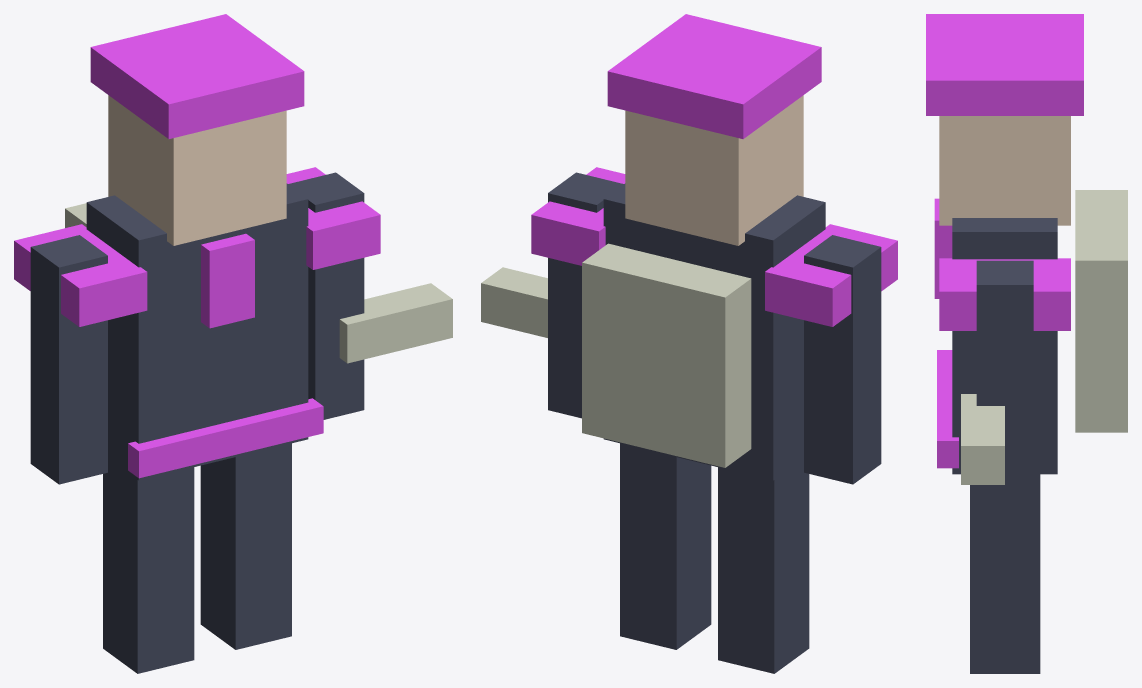
File: 13_tamsin_rootborne_tamer_of_transit.glb
The picture shows the model from 3 angles, left to right: view 1: azimuth 30°, elevation 25°; view 2: azimuth 150°, elevation 25°; view 3: azimuth 270°, elevation 25°; orthographic projection.
Parts seen in each view (by area): view 1: Tamsin Rootborne, Tamer of Transit; view 2: Tamsin Rootborne, Tamer of Transit; view 3: Tamsin Rootborne, Tamer of Transit.
Boxes of the visible parts, x1=… form: Tamsin Rootborne, Tamer of Transit: x1=14, y1=14, x2=452, y2=673; Tamsin Rootborne, Tamer of Transit: x1=481, y1=14, x2=897, y2=673; Tamsin Rootborne, Tamer of Transit: x1=926, y1=14, x2=1127, y2=673.
Size of the model in its own units: 0.9849 by 1.42 by 0.442.
